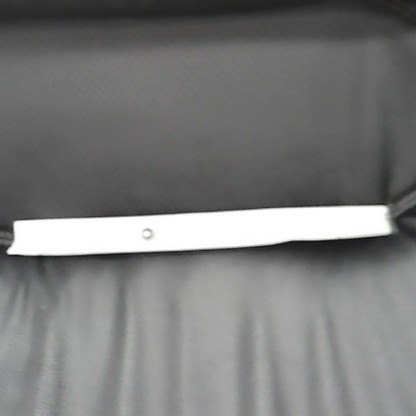ironball: (139, 225, 155, 241)
